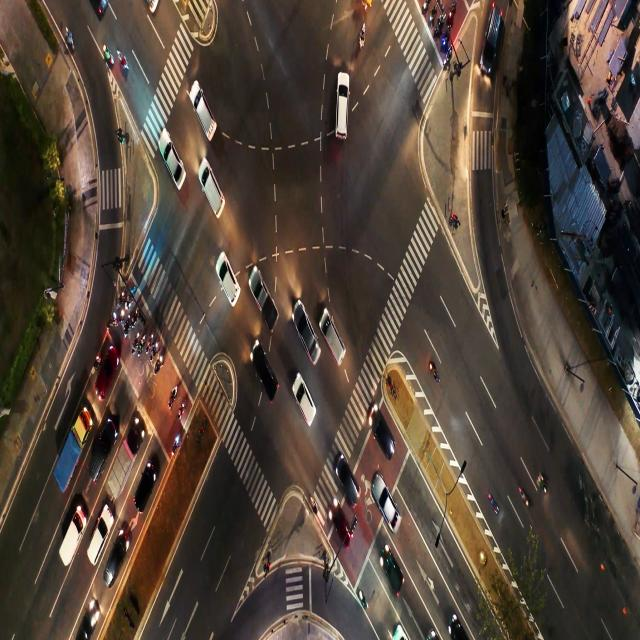motorcycle: (100, 40, 112, 64), (66, 26, 76, 51), (427, 357, 437, 377), (154, 355, 162, 377), (117, 54, 126, 70), (443, 52, 452, 65), (146, 328, 150, 356), (360, 590, 366, 607), (311, 499, 317, 515), (133, 311, 139, 326), (139, 338, 143, 359), (440, 34, 448, 44), (449, 10, 453, 30), (180, 400, 185, 416), (108, 312, 112, 331), (170, 386, 173, 408), (152, 345, 160, 352), (132, 343, 137, 353), (123, 324, 128, 334), (429, 14, 433, 26), (360, 30, 363, 44), (174, 439, 176, 453), (117, 314, 119, 325), (96, 358, 97, 368)
other: (64, 514, 75, 556), (64, 444, 81, 468), (118, 446, 129, 478)
truck: (255, 278, 271, 316), (332, 97, 352, 127), (300, 316, 313, 358), (163, 142, 176, 176), (256, 362, 273, 386), (328, 326, 342, 355), (486, 28, 498, 56), (300, 400, 318, 418), (378, 424, 392, 447), (92, 525, 102, 555), (210, 184, 220, 213), (383, 495, 394, 521), (221, 268, 235, 288), (198, 98, 208, 123), (111, 554, 120, 580), (142, 479, 150, 508), (333, 517, 348, 532), (342, 472, 351, 494), (100, 438, 106, 470), (103, 370, 111, 391), (388, 564, 399, 575)
